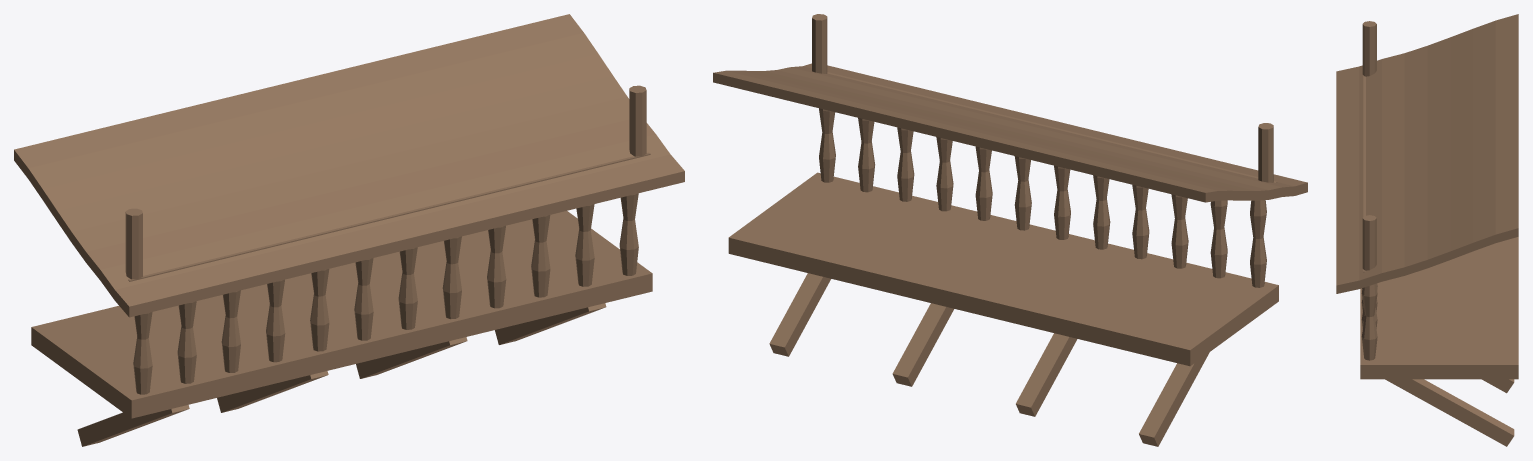
File: kit_wood_balcony.glb
3 renders of one model, left to right at view 1: azimuth 30°, elevation 25°; view 2: azimuth 150°, elevation 25°; view 3: azimuth 270°, elevation 25°, orthographic. The views are drawn at different scales.
Parts seen in each view (by area): view 1: kit_wood_balcony; view 2: kit_wood_balcony; view 3: kit_wood_balcony.
Boxes of the visible parts, x1,y1,x2,y2 form: kit_wood_balcony: [14, 14, 684, 446]; kit_wood_balcony: [713, 14, 1307, 446]; kit_wood_balcony: [1336, 14, 1518, 446].
Bounding box in the file's own units: 3.2 × 1.69 × 1.15.
